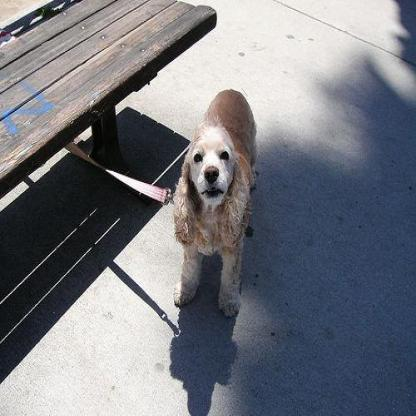cocker_spaniel: (169, 87, 258, 317)
